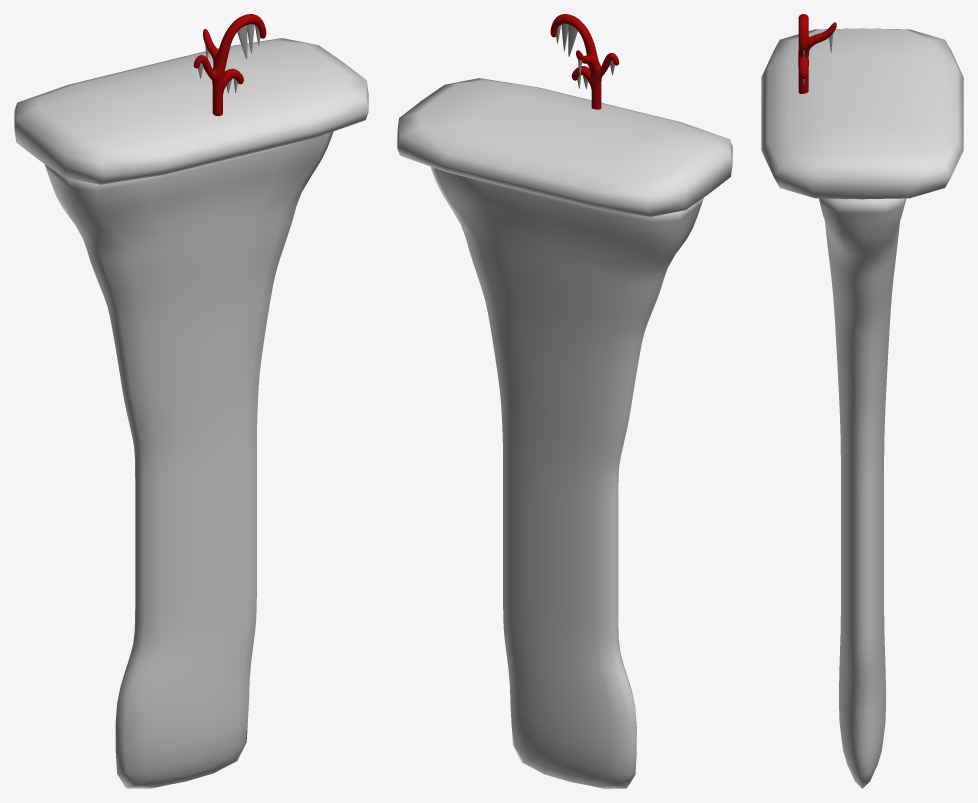
The model's file is before-explosure.obj.
The picture shows the model from 3 angles, left to right: view 1: azimuth 30°, elevation 25°; view 2: azimuth 150°, elevation 25°; view 3: azimuth 270°, elevation 25°; orthographic projection. The views are drawn at different scales.
Parts seen in each view (by area): view 1: OverGround.037_Cube.1101, OverGround.039_Cube.1165, Tree.024_Cube.1166; view 2: OverGround.037_Cube.1101, OverGround.039_Cube.1165, Tree.024_Cube.1166; view 3: OverGround.039_Cube.1165, OverGround.037_Cube.1101, Tree.024_Cube.1166.
Part boxes in pixels (box(x1,y1,x2,y2)): OverGround.037_Cube.1101: box(45, 131, 333, 788); OverGround.039_Cube.1165: box(14, 38, 368, 184); Tree.024_Cube.1166: box(193, 14, 266, 116); OverGround.037_Cube.1101: box(431, 166, 703, 788); OverGround.039_Cube.1165: box(397, 78, 732, 216); Tree.024_Cube.1166: box(550, 14, 619, 109); OverGround.039_Cube.1165: box(761, 28, 963, 199); OverGround.037_Cube.1101: box(818, 198, 906, 788); Tree.024_Cube.1166: box(798, 14, 836, 93).
Bounding box in the file's own units: 6.4 × 15.74 × 3.75.
